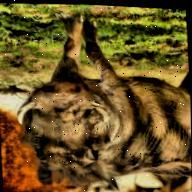boar: (11, 18, 192, 192)
